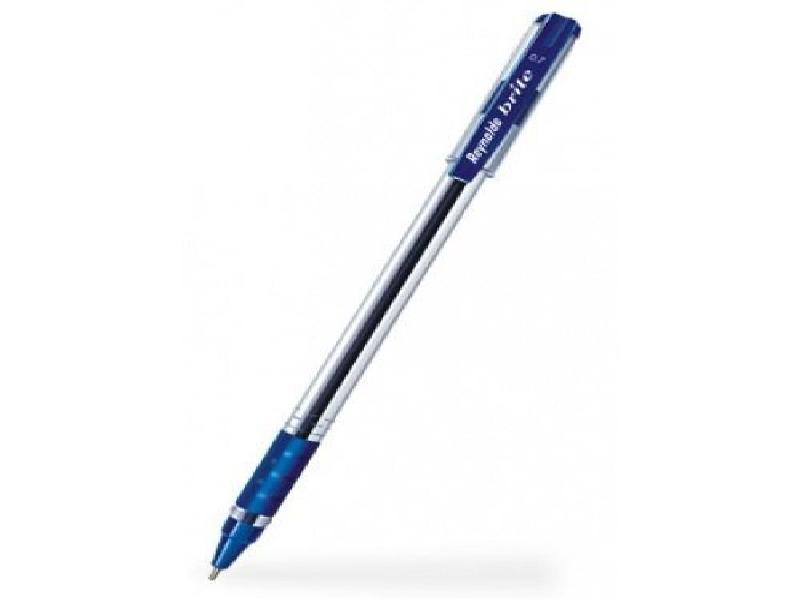pen: (204, 3, 592, 586)
